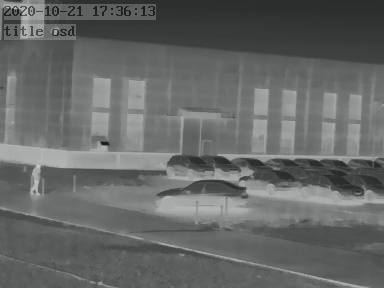person: (31, 163, 42, 195)
vehicle: (155, 180, 247, 207), (302, 173, 362, 200), (238, 169, 300, 195), (162, 153, 210, 178), (204, 153, 242, 177), (350, 173, 383, 200), (232, 154, 268, 171), (262, 155, 295, 170), (347, 156, 379, 170), (295, 155, 325, 169), (317, 156, 347, 169)
